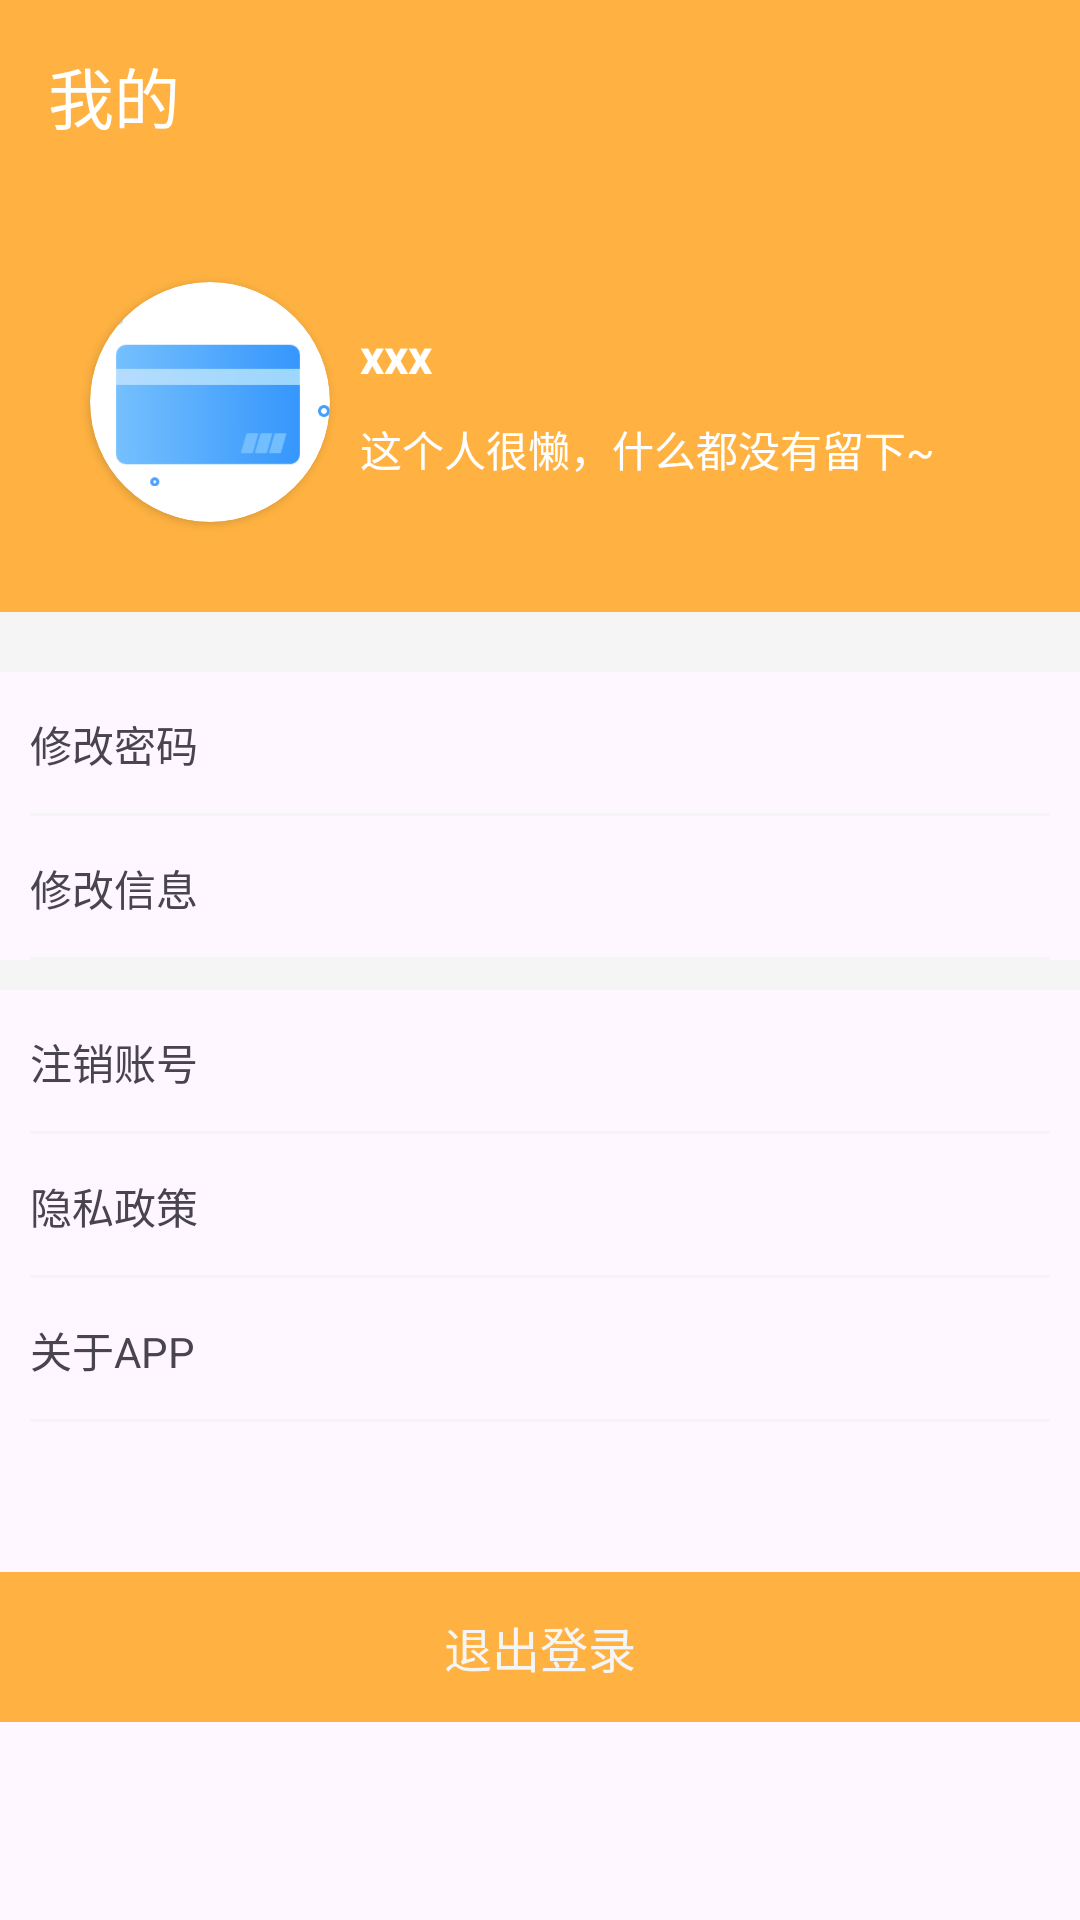

Icons on this 1080 x 1920 Android screen, each with its box as Rect(x1, y1, x2, y2):
bank card: Rect(90, 282, 330, 522)
